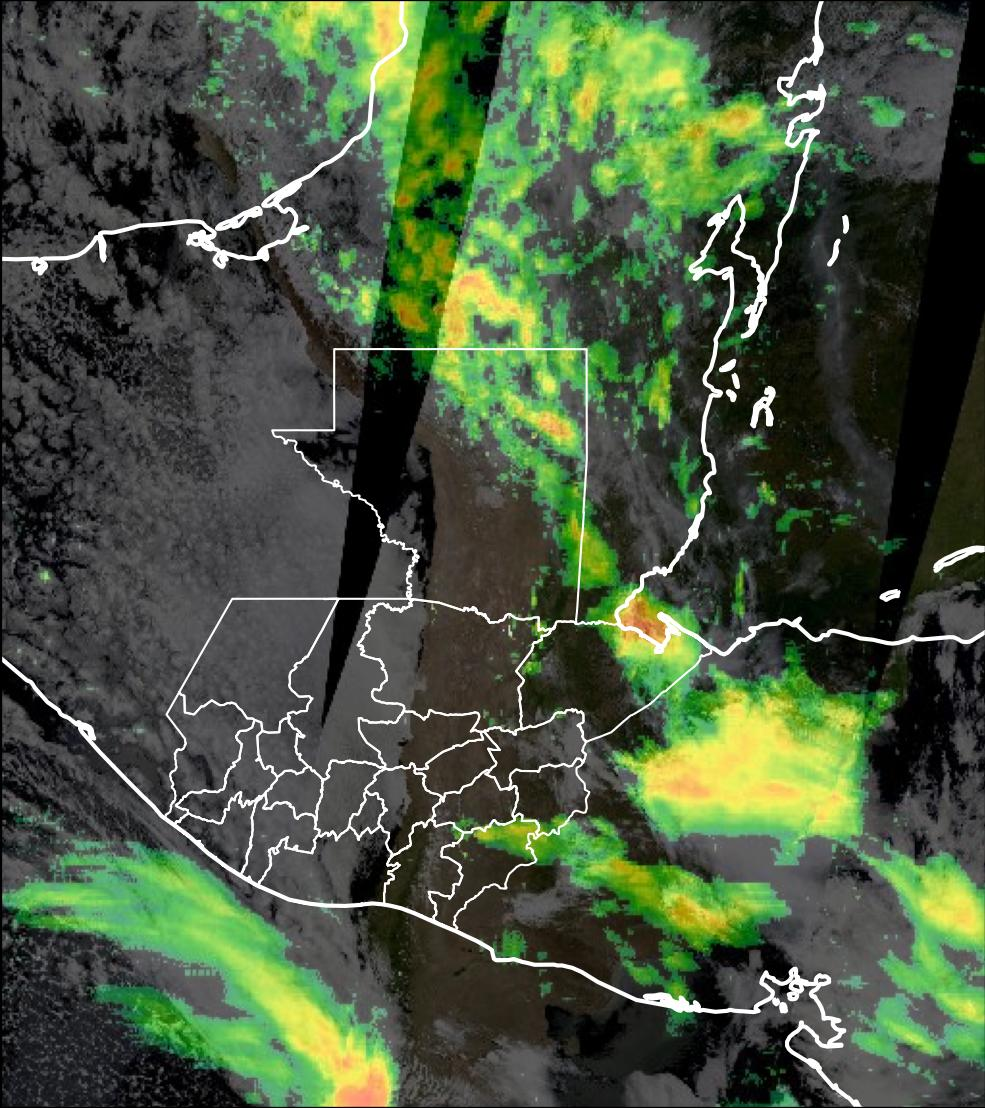precipitacion: (652, 769, 866, 851), (297, 1002, 400, 1108)
